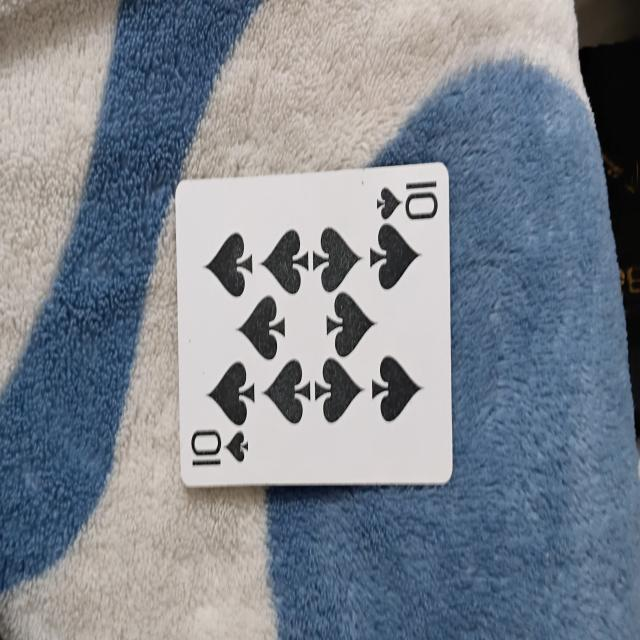10S: (168, 176, 464, 490)
